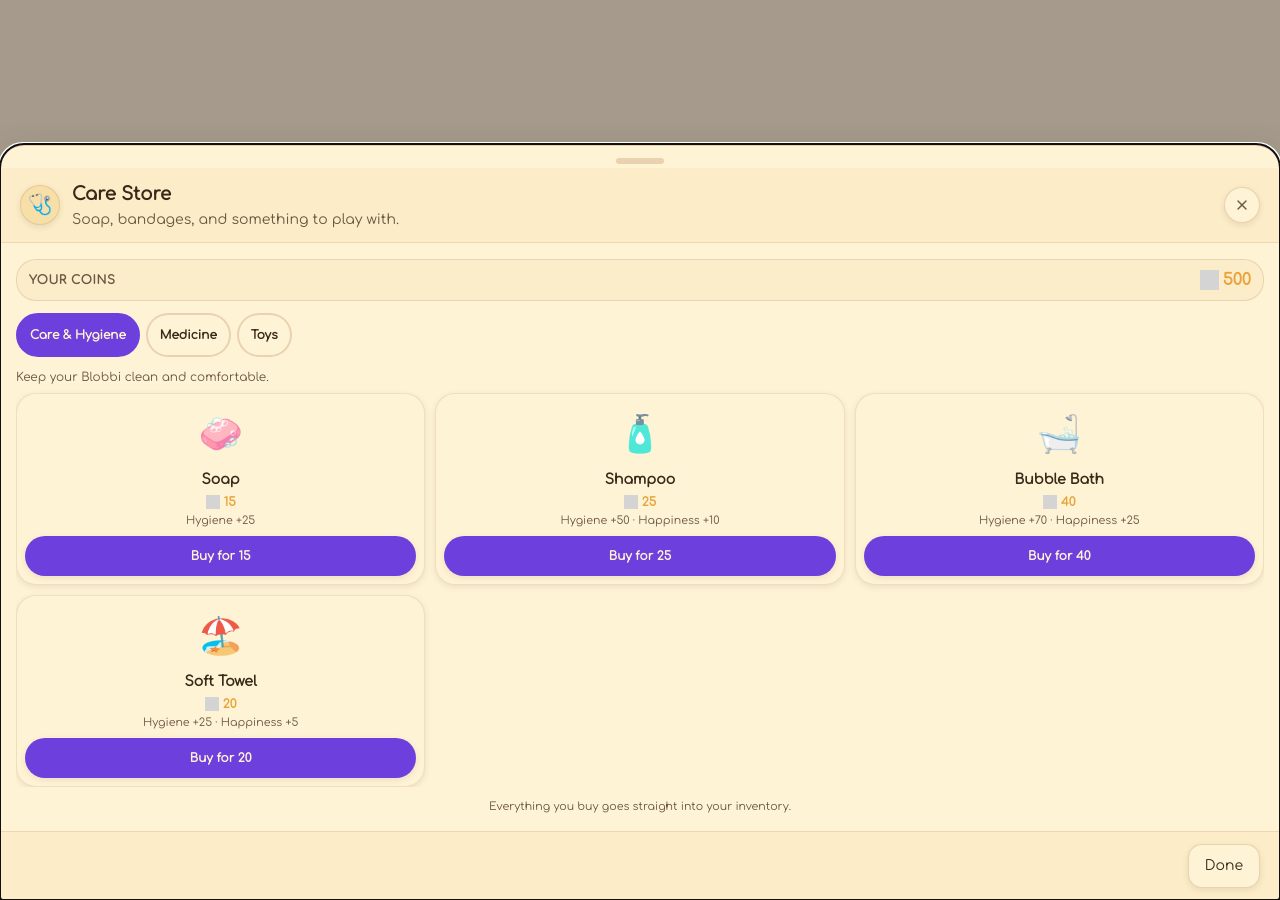
Test case: what the shop shows › shows how many you already own
Check: the heading "Care Store" is shown, box [72, 184, 171, 204]
Click the radio button labelled "Toys" at (264, 335), box [237, 313, 292, 357]
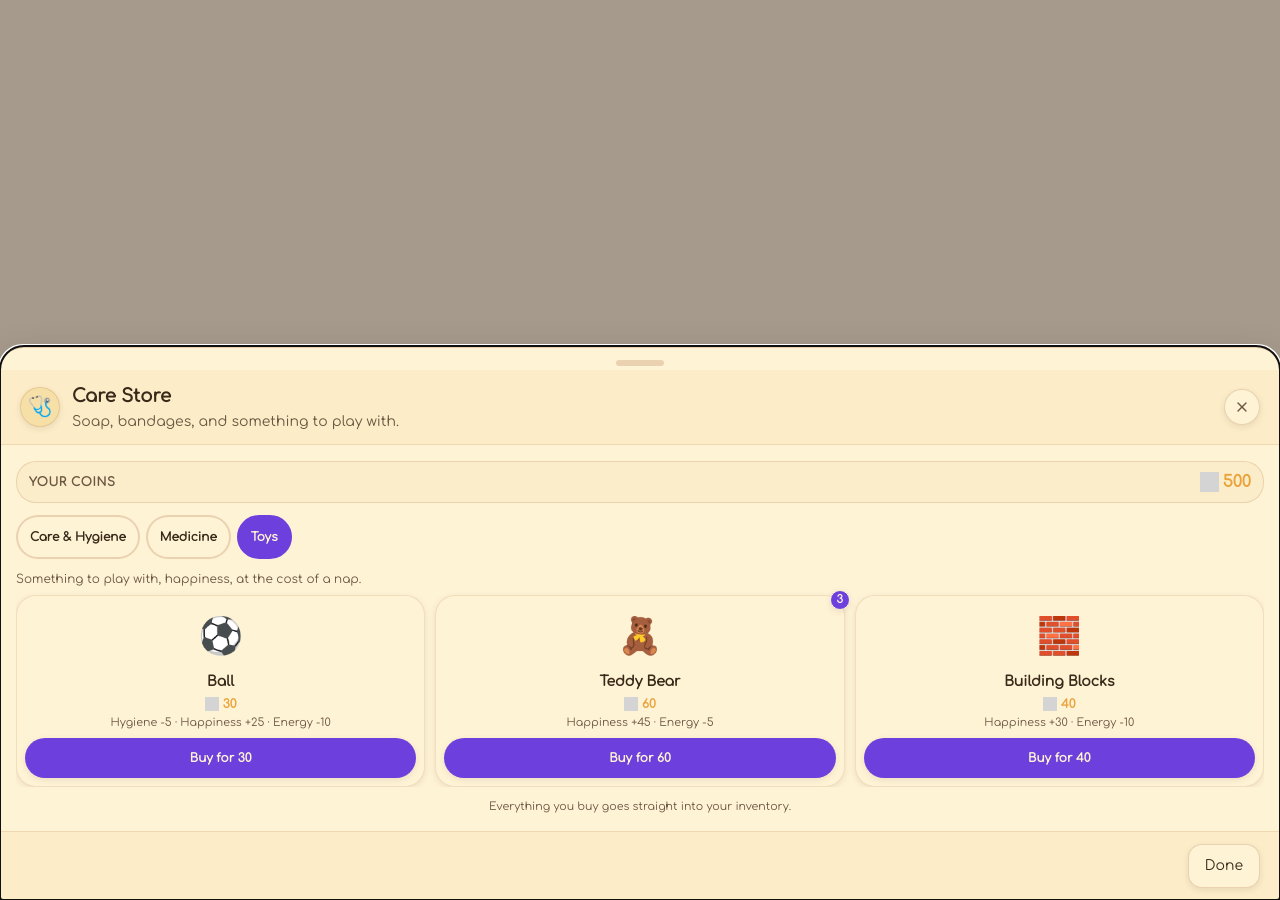
Check: the text "3" is shown, box [830, 590, 850, 610]
